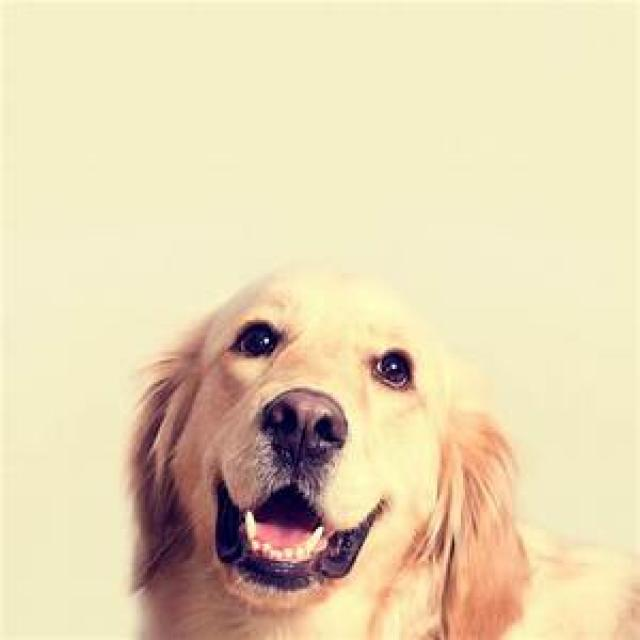dog: (131, 275, 528, 640)
